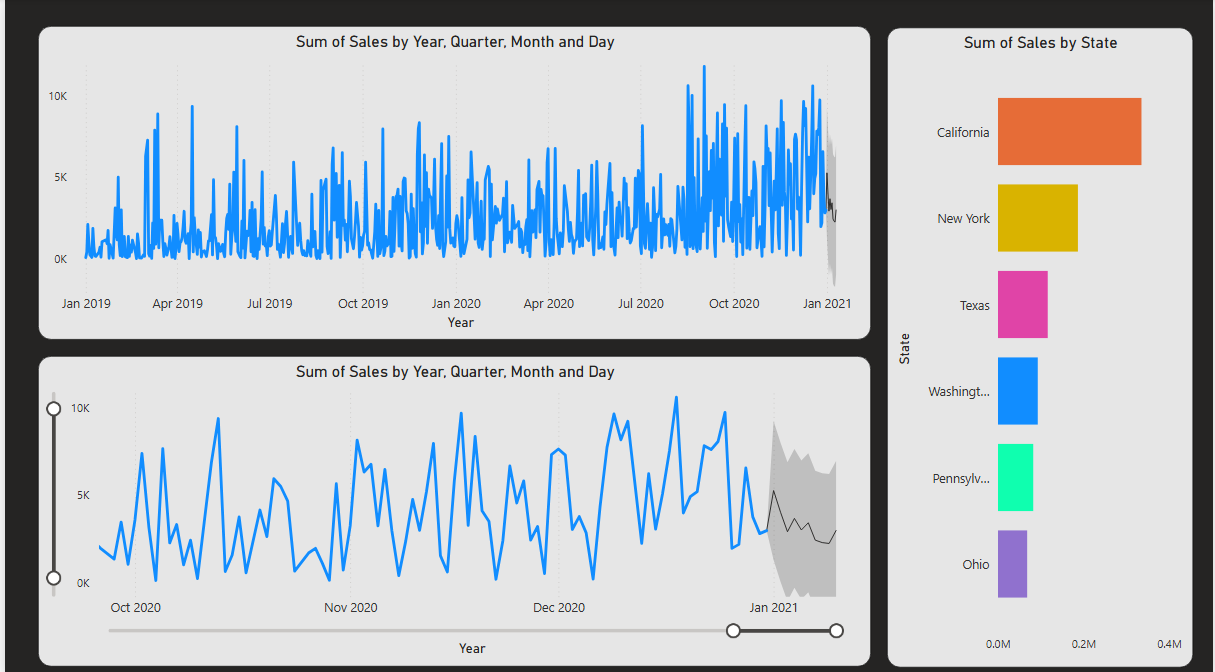

What the dashboard file says about the page in this screenshot:
{"tool":"powerbi","page":{"name":"Page 2","canvas":[1280,720],"ordinal":1},"visuals":[{"type":"lineChart","fields":{"Y":["Sum(SuperStore_Sales_Dataset.Sales)"],"Category":["SuperStore_Sales_Dataset.Order Date.Variation.Date Hierarchy.Year","SuperStore_Sales_Dataset.Order Date.Variation.Date Hierarchy.Quarter","SuperStore_Sales_Dataset.Order Date.Variation.Date Hierarchy.Month","SuperStore_Sales_Dataset.Order Date.Variation.Date Hierarchy.Day"]},"box":[34.4,27.9,883.6,332.8],"z":0},{"type":"lineChart","fields":{"Y":["Sum(SuperStore_Sales_Dataset.Sales)"],"Category":["SuperStore_Sales_Dataset.Order Date.Variation.Date Hierarchy.Year","SuperStore_Sales_Dataset.Order Date.Variation.Date Hierarchy.Quarter","SuperStore_Sales_Dataset.Order Date.Variation.Date Hierarchy.Month","SuperStore_Sales_Dataset.Order Date.Variation.Date Hierarchy.Day"]},"box":[34.4,378.7,883.6,329.5],"z":1000},{"type":"barChart","fields":{"Y":["Sum(SuperStore_Sales_Dataset.Sales)"],"Category":["SuperStore_Sales_Dataset.State"]},"box":[936.1,29.5,324.6,678.7],"z":2000}]}

Visuals, with their boxes in screenshot pixels (x1, y1, x2, y2), scaled from the page's 1280x720 canvas onto the 1215x672 screenshot:
lineChart - Sum(SuperStore_Sales_Dataset.Sales) x SuperStore_Sales_Dataset.Order Date.Variation.Date Hierarchy.Year: 33, 26, 871, 337
lineChart - Sum(SuperStore_Sales_Dataset.Sales) x SuperStore_Sales_Dataset.Order Date.Variation.Date Hierarchy.Year: 33, 353, 871, 661
barChart - Sum(SuperStore_Sales_Dataset.Sales) x SuperStore_Sales_Dataset.State: 889, 28, 1197, 661
